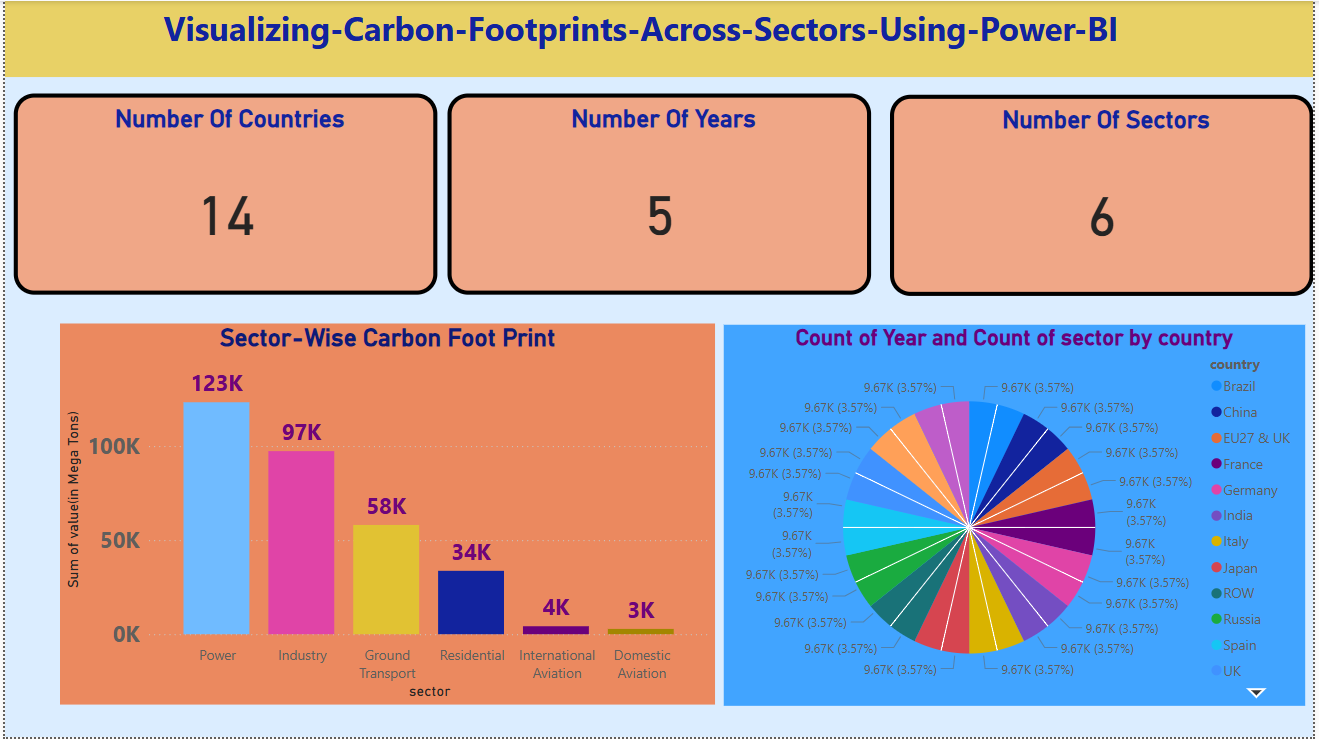

The dashboard page shown, as its layout file describes it:
{"tool":"powerbi","page":{"name":"Page 1","canvas":[1280,720],"ordinal":0},"visuals":[{"type":"textbox","box":[0,0,1280.3,74.1],"z":0},{"type":"card","title":"Number Of Countries","fields":{"Values":["Count(dataset.country)"]},"box":[8.6,90.5,414.5,196.9],"z":1000},{"type":"card","title":"Number Of Years","fields":{"Values":["Count(dataset.Year)"]},"box":[432.9,90.5,414.5,196.9],"z":2000},{"type":"card","title":"Number Of  Sectors","fields":{"Values":["Count(dataset.sector)"]},"box":[865.8,91.7,414.5,196.9],"z":3000},{"type":"columnChart","title":"Sector-Wise Carbon Foot Print","fields":{"Category":["dataset.sector"],"Y":["Sum(dataset.value(in Mega Tons))"]},"box":[53.8,315.5,640.8,373],"z":4000},{"type":"pieChart","fields":{"Category":["dataset.country"],"Y":["CountNonNull(dataset.Year)","CountNonNull(dataset.sector)"]},"box":[703.1,316.7,568.6,373],"z":4001}]}

Visuals, with their boxes in screenshot pixels (x1, y1, x2, y2), scaled from the page's 1280x720 canvas onto the 1319x739 screenshot:
textbox: (x1=0, y1=0, x2=1318, y2=76)
"Number Of Countries" card: (x1=9, y1=93, x2=436, y2=295)
"Number Of Years" card: (x1=446, y1=93, x2=873, y2=295)
"Number Of  Sectors" card: (x1=892, y1=94, x2=1318, y2=296)
"Sector-Wise Carbon Foot Print" columnChart: (x1=55, y1=324, x2=716, y2=707)
pieChart - dataset.country x CountNonNull(dataset.Year): (x1=725, y1=325, x2=1310, y2=708)
